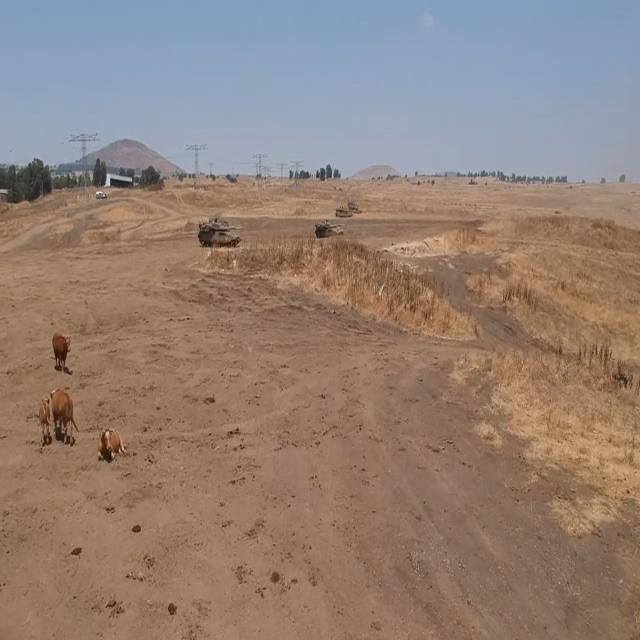tank: (194, 212, 244, 258), (313, 214, 340, 246), (352, 193, 363, 222), (337, 202, 348, 216)
